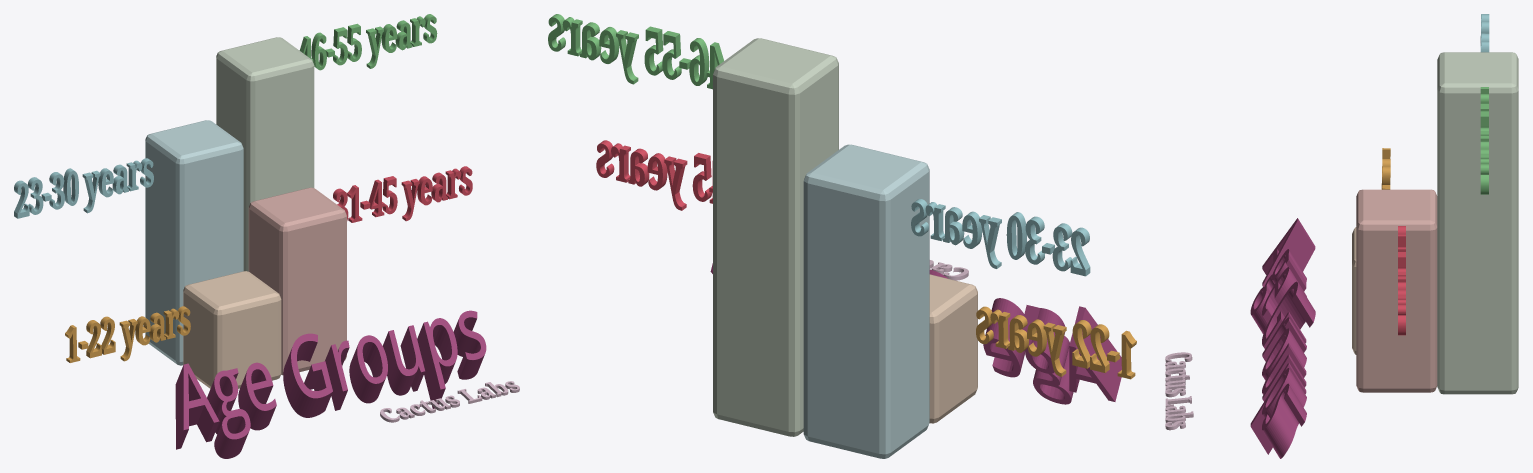
The model's file is chart.glb.
The picture shows the model from 3 angles, left to right: view 1: azimuth 30°, elevation 25°; view 2: azimuth 150°, elevation 25°; view 3: azimuth 270°, elevation 25°; orthographic projection. The views are drawn at different scales.
Visible parts, largest first — view 1: Mesh_Mesh_head_geo.001_lambert2SG.001; view 2: Mesh_Mesh_head_geo.001_lambert2SG.001; view 3: Mesh_Mesh_head_geo.001_lambert2SG.001.
Boxes of the visible parts, x1,y1,x2,y2 form: Mesh_Mesh_head_geo.001_lambert2SG.001: (14,14,519,458); Mesh_Mesh_head_geo.001_lambert2SG.001: (548,14,1136,458); Mesh_Mesh_head_geo.001_lambert2SG.001: (1165,14,1518,458).
Size of the model in its own units: 71.13 by 50.04 by 46.
